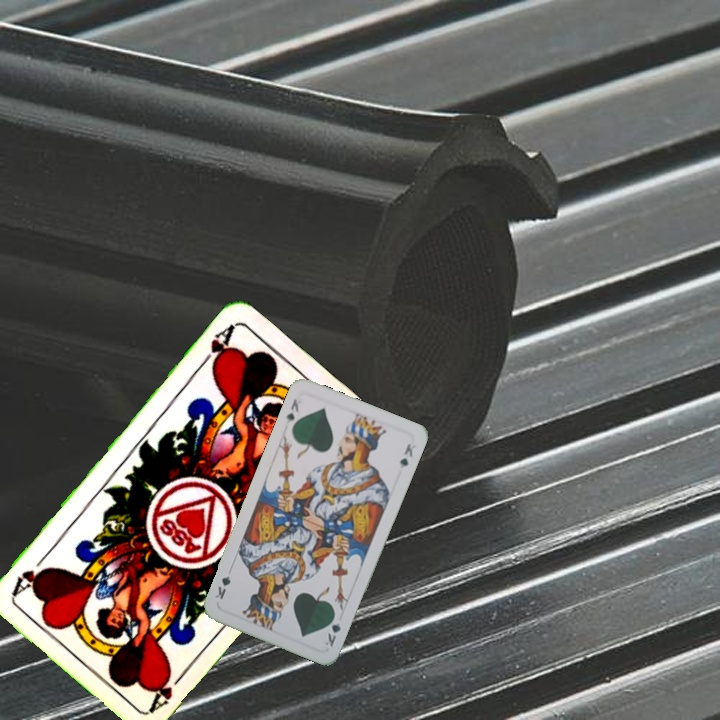GK: (320, 610, 344, 649), (282, 395, 301, 427)
HA: (146, 663, 191, 714), (194, 320, 237, 372)
